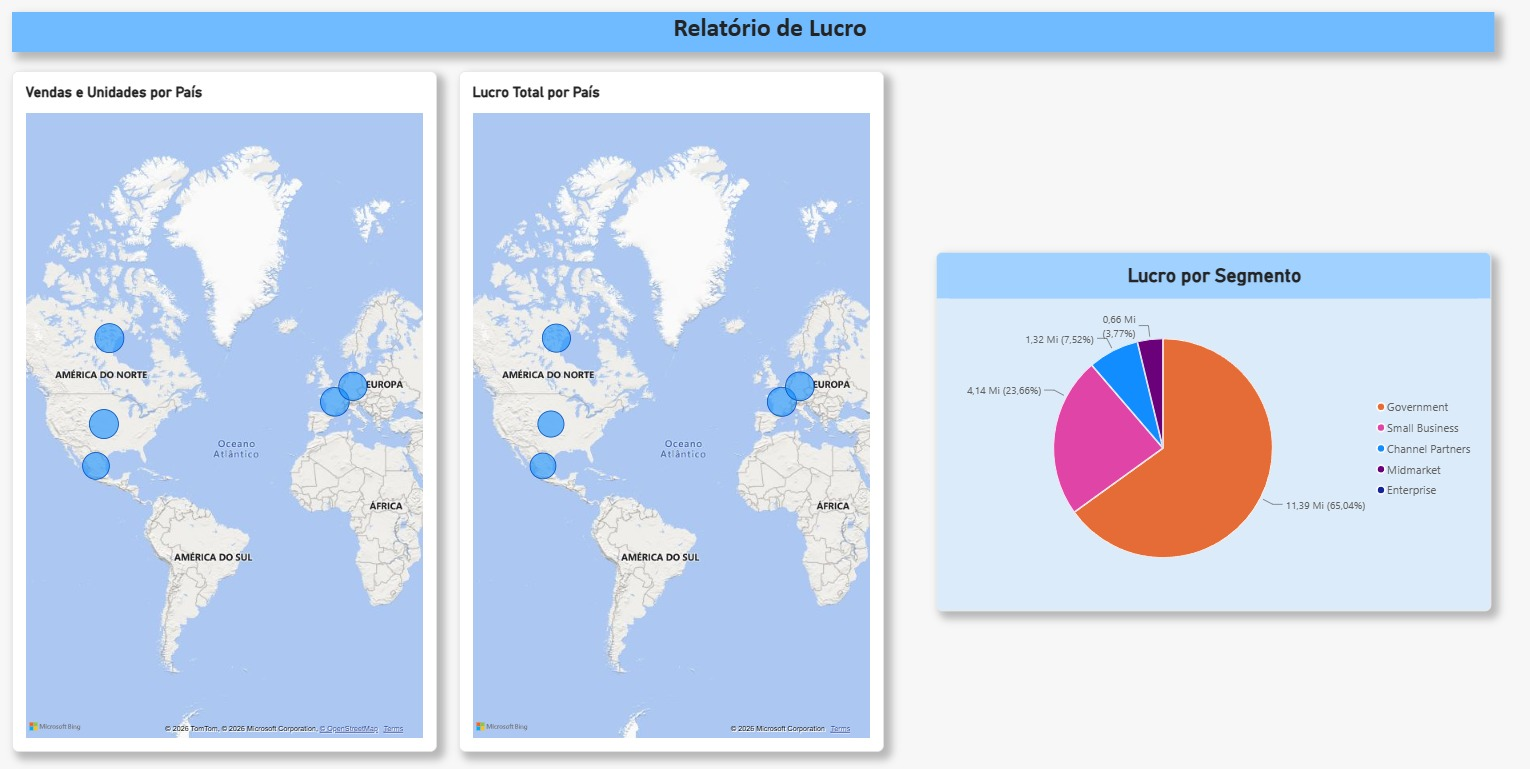

The dashboard page shown, as its layout file describes it:
{"tool":"powerbi","page":{"name":"Página 3","canvas":[1920,1080],"ordinal":2},"visuals":[{"type":"map","title":"Vendas e Unidades por País","fields":{"Category":["financials.Country"],"Size":["Sum(financials. Sales)"]},"box":[15,88.8,531.1,850.6],"z":0},{"type":"map","title":"Lucro Total por País","fields":{"Category":["financials.Country"],"Size":["Sum(financials.Profit)"]},"box":[573.8,88.8,531.1,850.6],"z":1},{"type":"pieChart","title":"Lucro por Segmento","fields":{"Category":["financials.Segment"],"Y":["Sum(financials.Profit)"]},"box":[1170.1,315.1,694.5,449.4],"z":2},{"type":"textbox","box":[14.6,14.6,1852.9,49.6],"z":3}]}

Visuals, with their boxes on the page's 1920x1080 design canvas (x1, y1, x2, y2). These are canvas units, not pixel positions in the 1530x769 screenshot, which may show the page scaled, cropped or inside an application window:
"Vendas e Unidades por País" map: select_region(15, 89, 546, 939)
"Lucro Total por País" map: select_region(574, 89, 1105, 939)
"Lucro por Segmento" pieChart: select_region(1170, 315, 1865, 764)
textbox: select_region(15, 15, 1868, 64)
